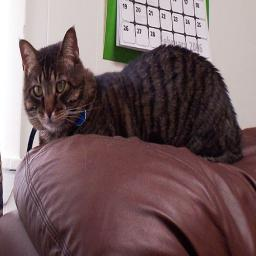catnose: (44, 107, 54, 120)
